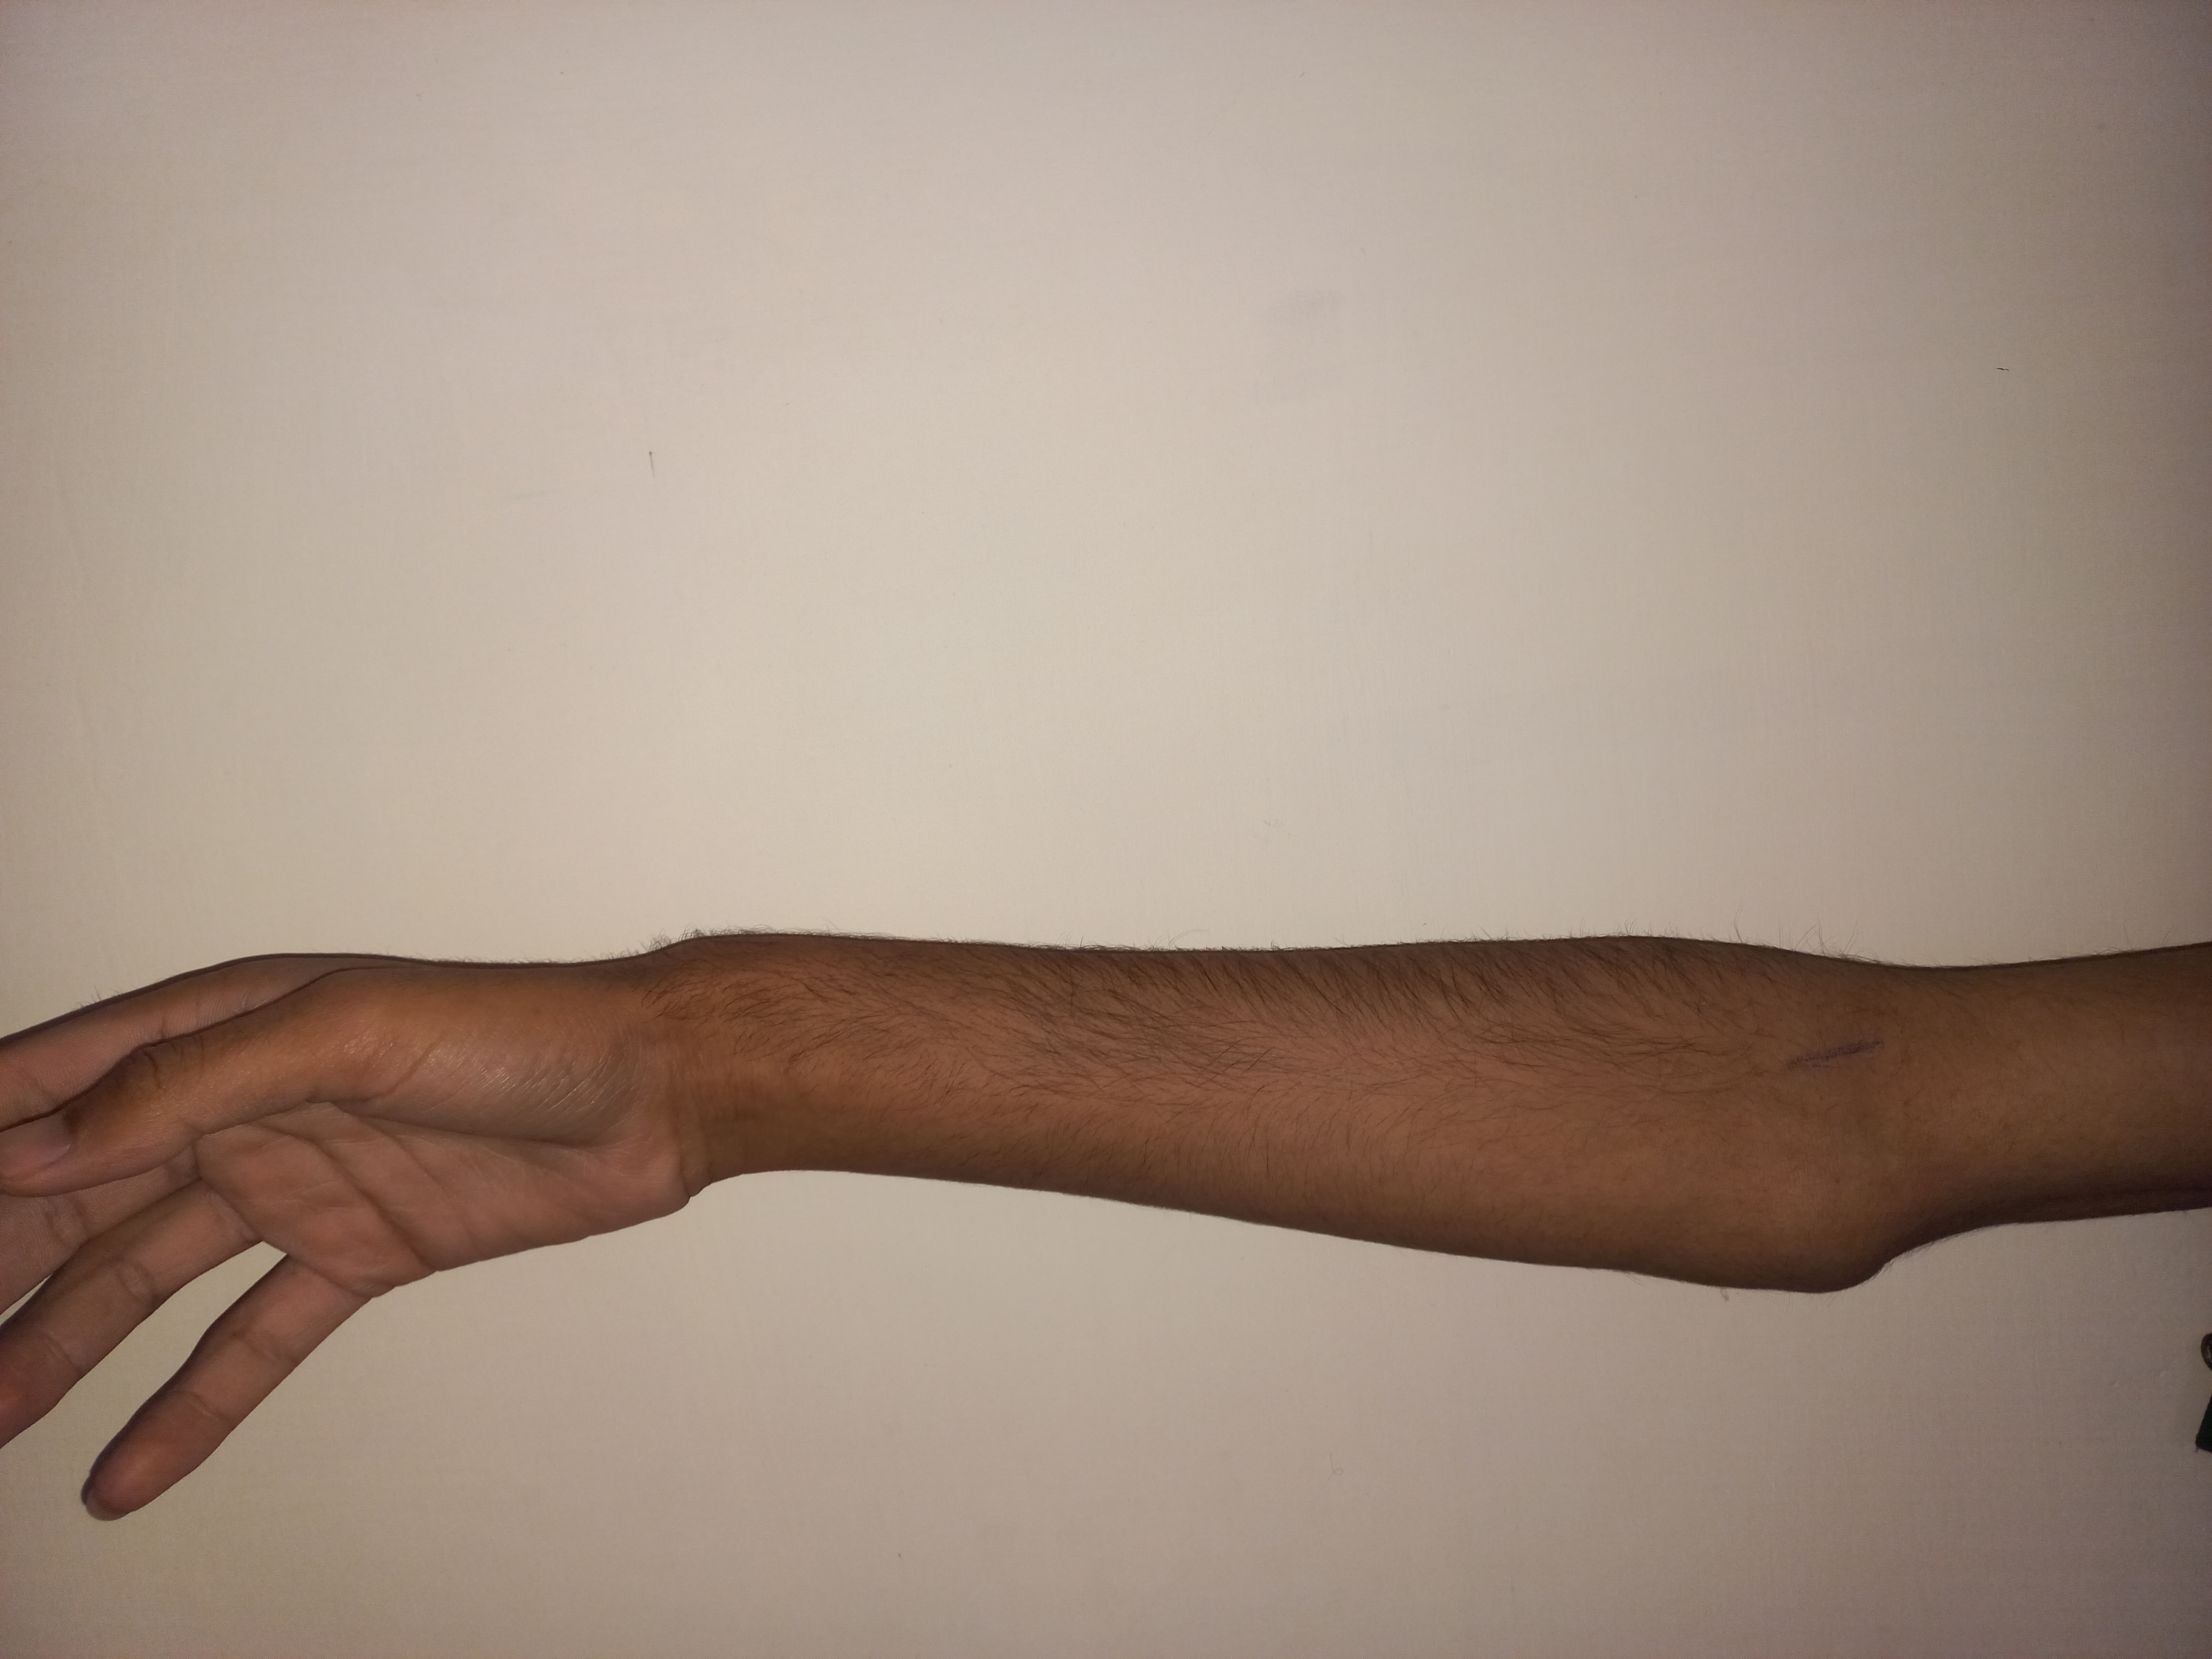vein: (1771, 1030, 1918, 1075)
